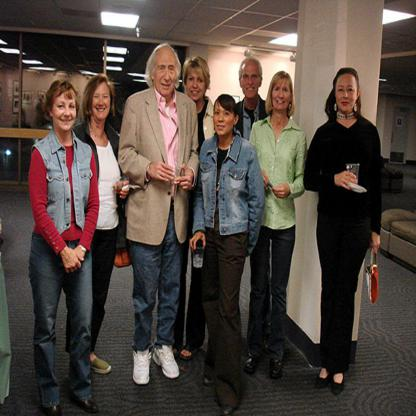face: (154, 52, 177, 97), (54, 93, 77, 132), (336, 74, 358, 113), (91, 84, 112, 121), (214, 101, 235, 137), (187, 66, 207, 102), (242, 64, 261, 99), (273, 78, 292, 111)
